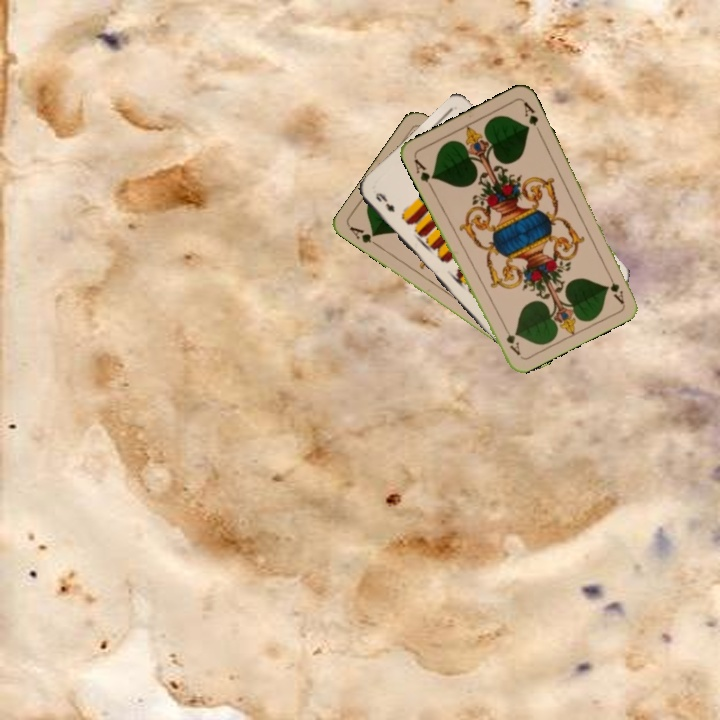E9: (372, 188, 397, 215)
GA: (345, 222, 382, 250), (410, 155, 437, 191), (602, 267, 626, 306)
